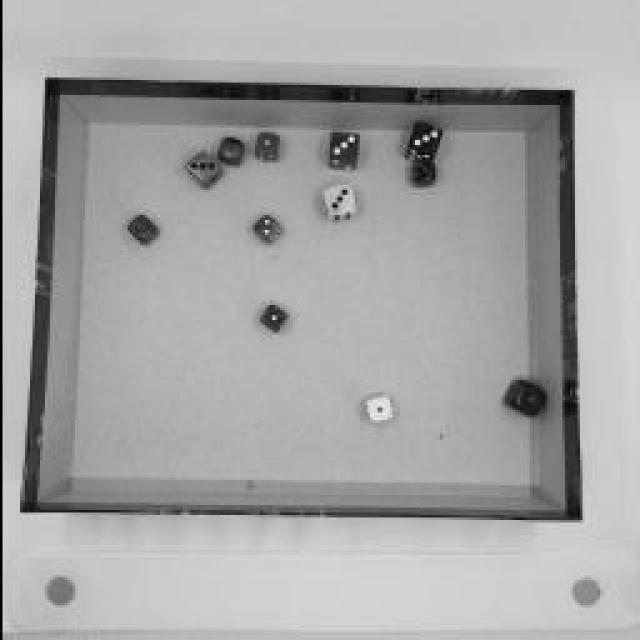dice_1: (487, 379, 555, 429), (124, 206, 166, 252), (245, 302, 295, 336), (352, 389, 402, 421), (250, 132, 285, 168), (212, 136, 246, 172)
dice_2: (240, 212, 288, 246)
dice_3: (398, 121, 452, 161), (182, 148, 222, 202), (322, 131, 366, 174), (315, 184, 357, 228), (408, 158, 440, 192)
